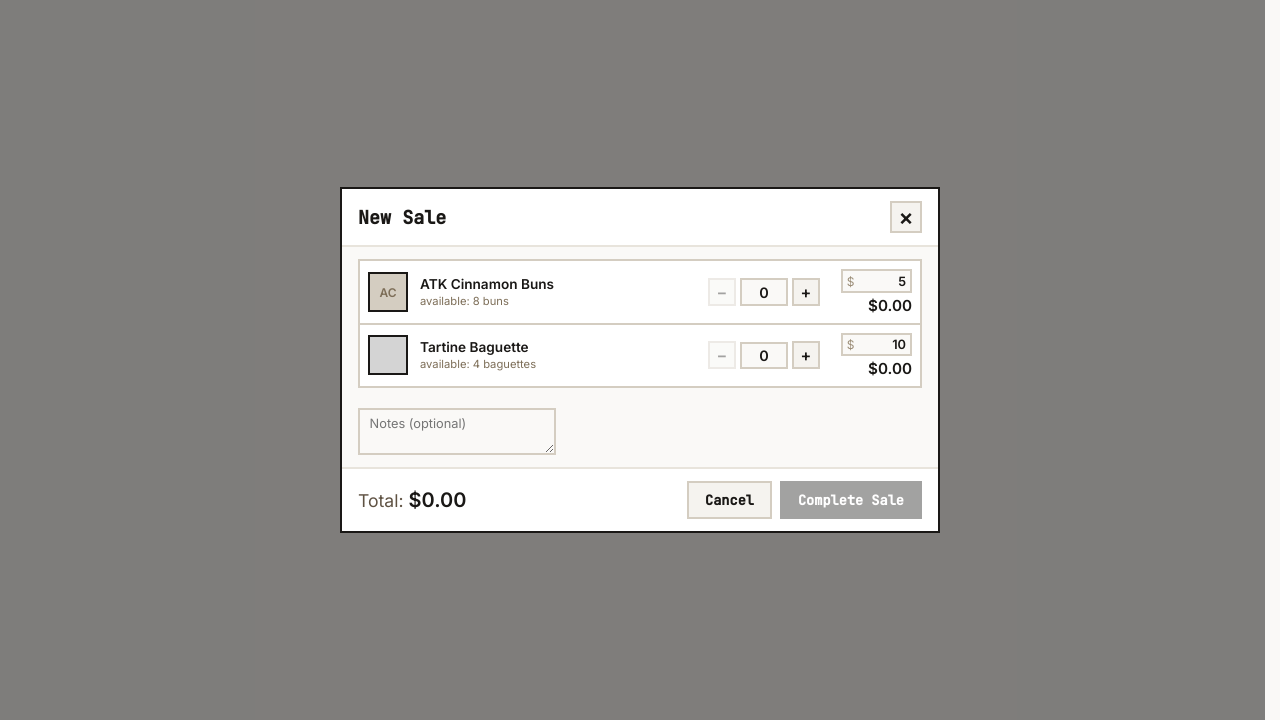
Test: NewSaleSheet › increment updates units and total
Click the button with test id "new-sale-inc-r1".
click(806, 292)  # box left=792, top=278, right=820, bottom=306
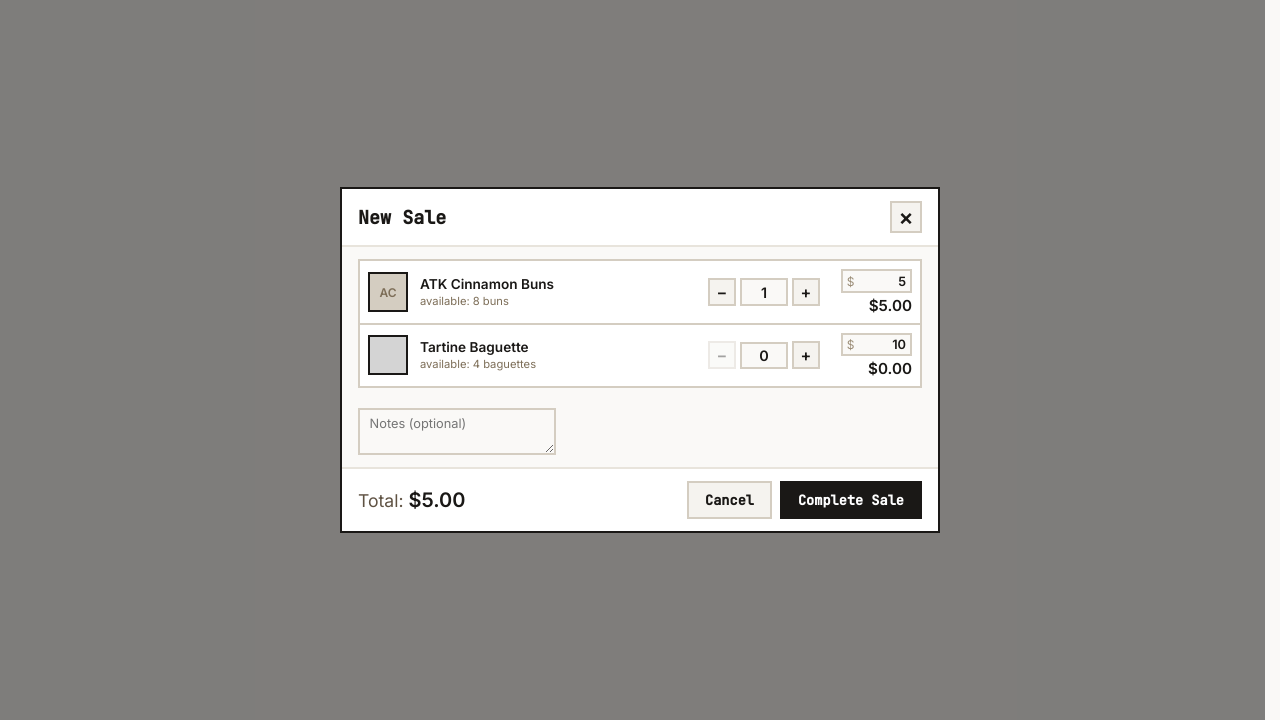
Click the button with test id "new-sale-inc-r1".
click(806, 292)  # box left=792, top=278, right=820, bottom=306
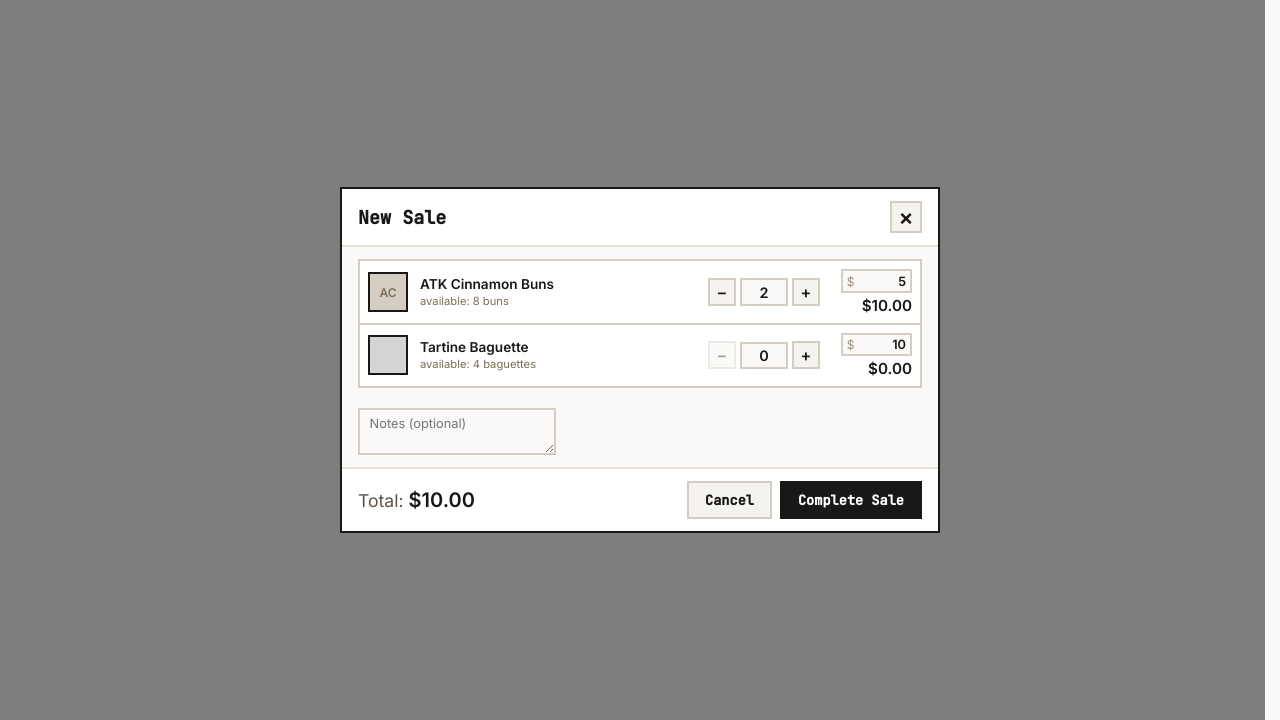
Result: the button with test id "new-sale-complete" is enabled at left=780, top=481, right=922, bottom=519
Result: the element with test id "new-sale-total" shows "$10.00" at left=408, top=488, right=475, bottom=512
